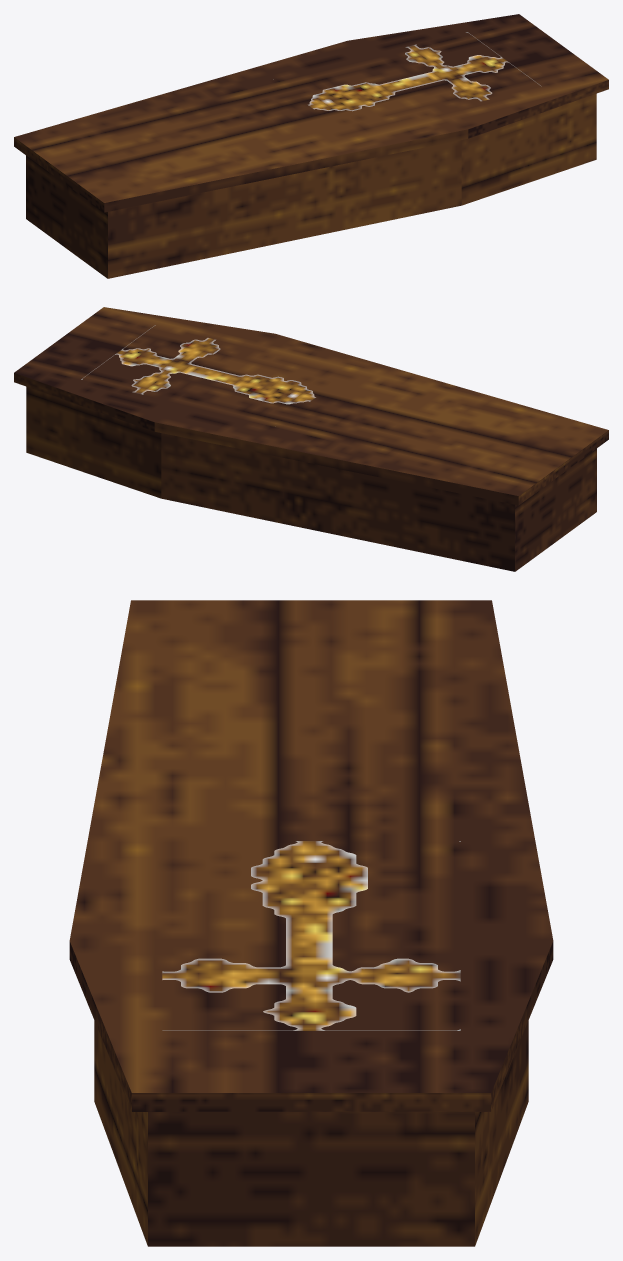
The model's file is SM_Dungeon_Coffin.fbx.
3 renders of one model, top to bottom at view 1: azimuth 30°, elevation 25°; view 2: azimuth 150°, elevation 25°; view 3: azimuth 270°, elevation 25°, orthographic. The views are drawn at different scales.
Visible parts, largest first — view 1: SM_Dungeon_Coffin; view 2: SM_Dungeon_Coffin; view 3: SM_Dungeon_Coffin.
Part boxes in pixels (x1,y1,x2,y2): SM_Dungeon_Coffin: (14, 14, 608, 278); SM_Dungeon_Coffin: (14, 307, 608, 571); SM_Dungeon_Coffin: (69, 600, 553, 1246).
Bounding box in the file's own units: 259 × 40.69 × 108.
